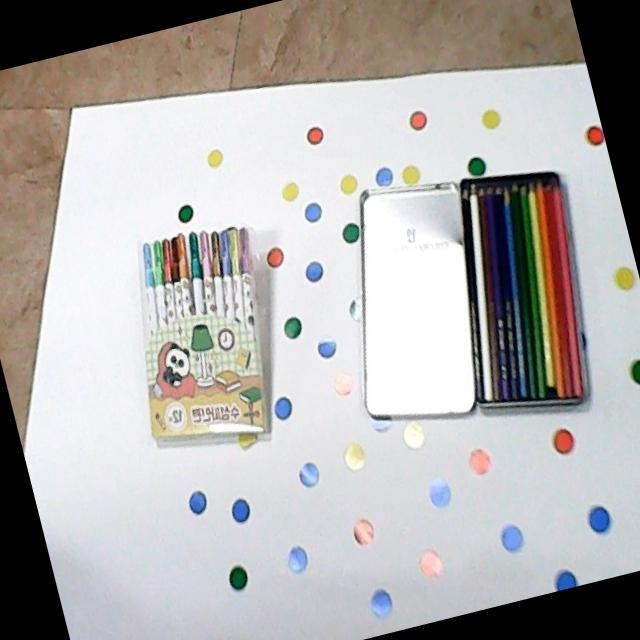color: (460, 164, 595, 410)
signpen: (132, 219, 276, 448)
